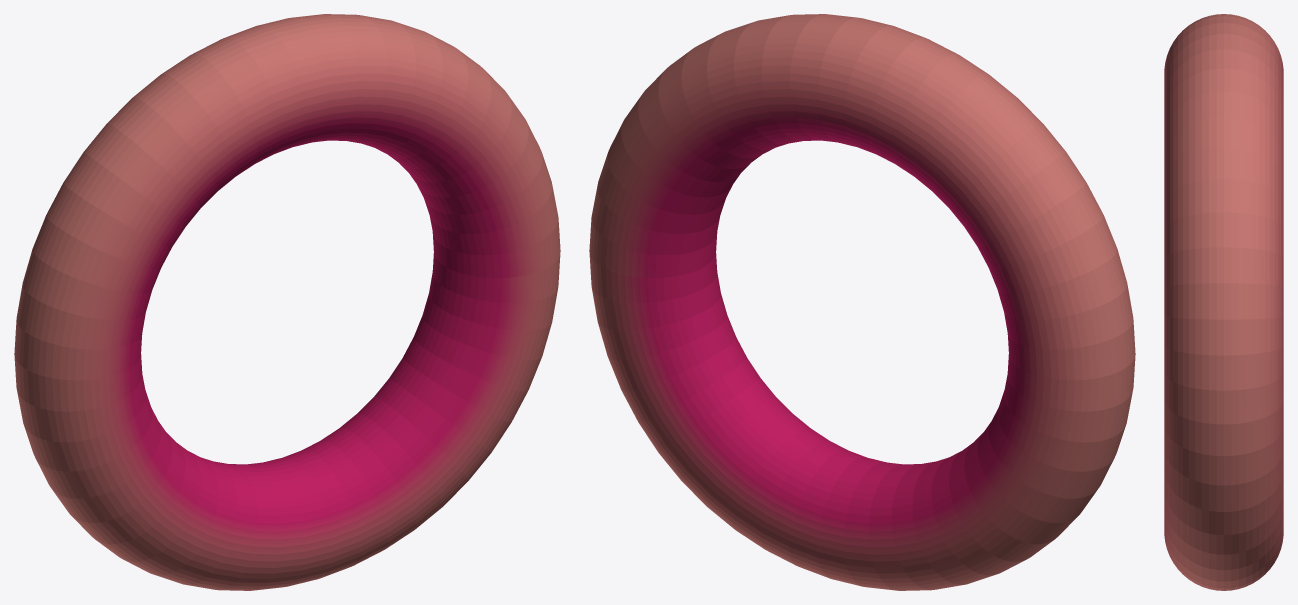
3 renders of one model, left to right at view 1: azimuth 30°, elevation 25°; view 2: azimuth 150°, elevation 25°; view 3: azimuth 270°, elevation 25°, orthographic. The views are drawn at different scales.
Visible parts, largest first — view 1: world; view 2: world; view 3: world.
Part boxes in pixels (x1,y1,x2,y2): world: (14,14,560,590); world: (589,14,1135,590); world: (1164,14,1283,590).
Size of the model in its own units: 32.8 by 32.74 by 6.79.
